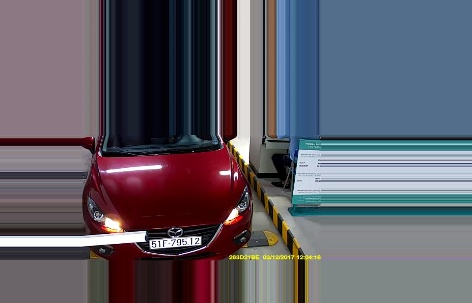plate: (151, 236, 202, 249)
